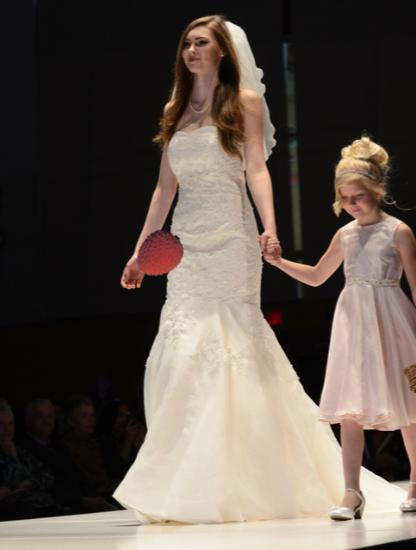Lychee: (134, 229, 186, 281)
